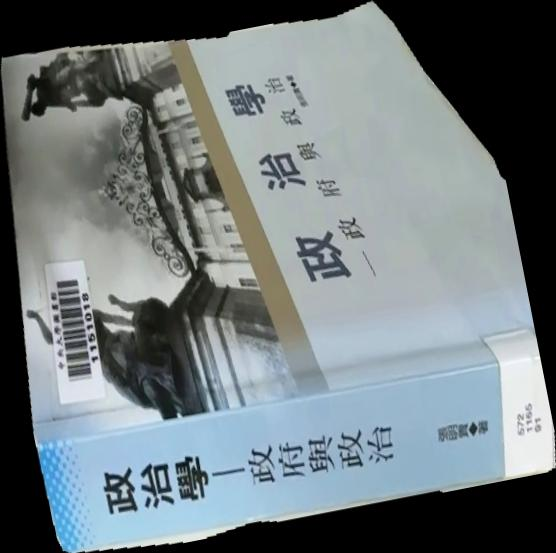flat: (1, 1, 556, 553)
